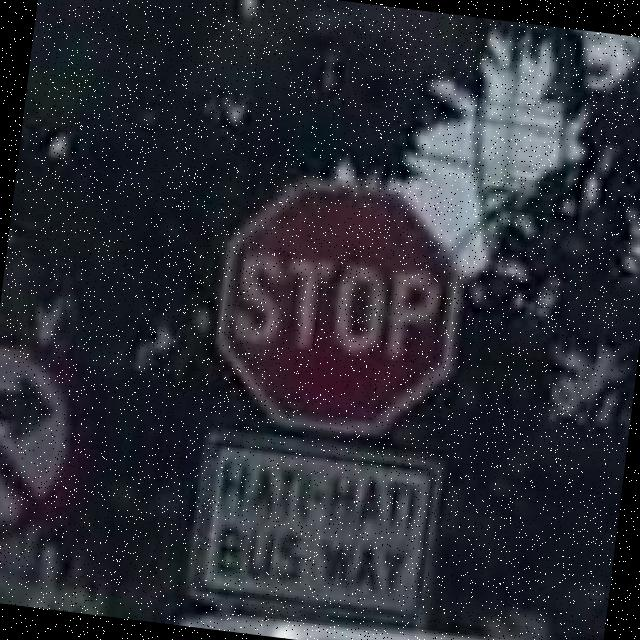Stop: (206, 170, 474, 450)
